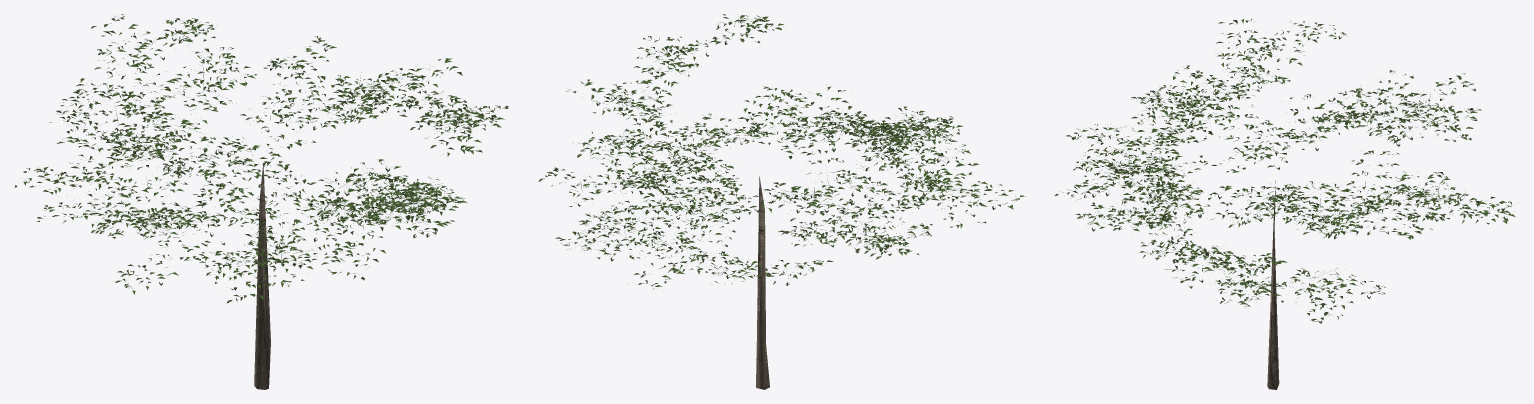
File: koelreuteria-4-lite.glb
3 renders of one model, left to right at view 1: azimuth 30°, elevation 25°; view 2: azimuth 150°, elevation 25°; view 3: azimuth 270°, elevation 25°, orthographic. The views are drawn at different scales.
Visible parts, largest first — view 1: leaf-edge, leaf, bark; view 2: leaf-edge, leaf, bark; view 3: leaf-edge, leaf, bark.
Part boxes in pixels (x1,y1,x2,y2): leaf-edge: [14, 14, 508, 303]; leaf: [23, 19, 502, 301]; bark: [254, 162, 270, 389]; leaf-edge: [538, 14, 1019, 289]; leaf: [555, 14, 1025, 286]; bark: [756, 176, 769, 389]; leaf-edge: [1054, 18, 1511, 323]; leaf: [1062, 19, 1515, 315]; bark: [1267, 180, 1279, 389].
Size of what is drawn, in the model's own units: 4.28 by 3.14 by 4.29.
5 materials, 4 textured.
